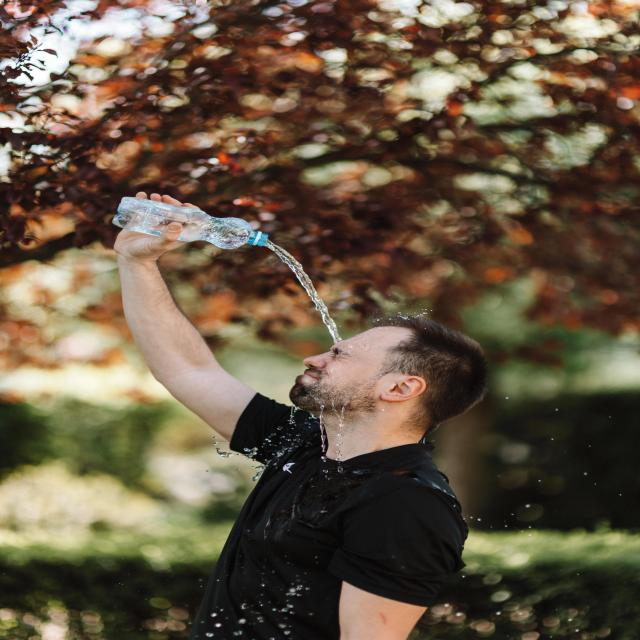bottle-plastic: (111, 193, 273, 253)
